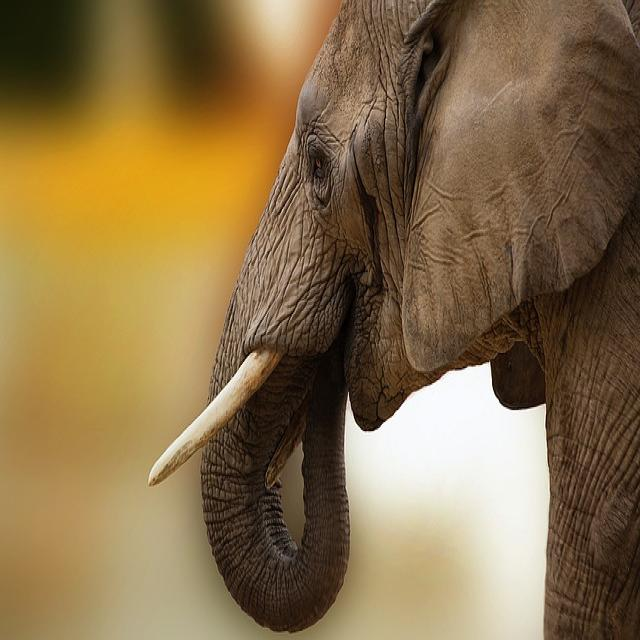elephant: (150, 1, 640, 638)
